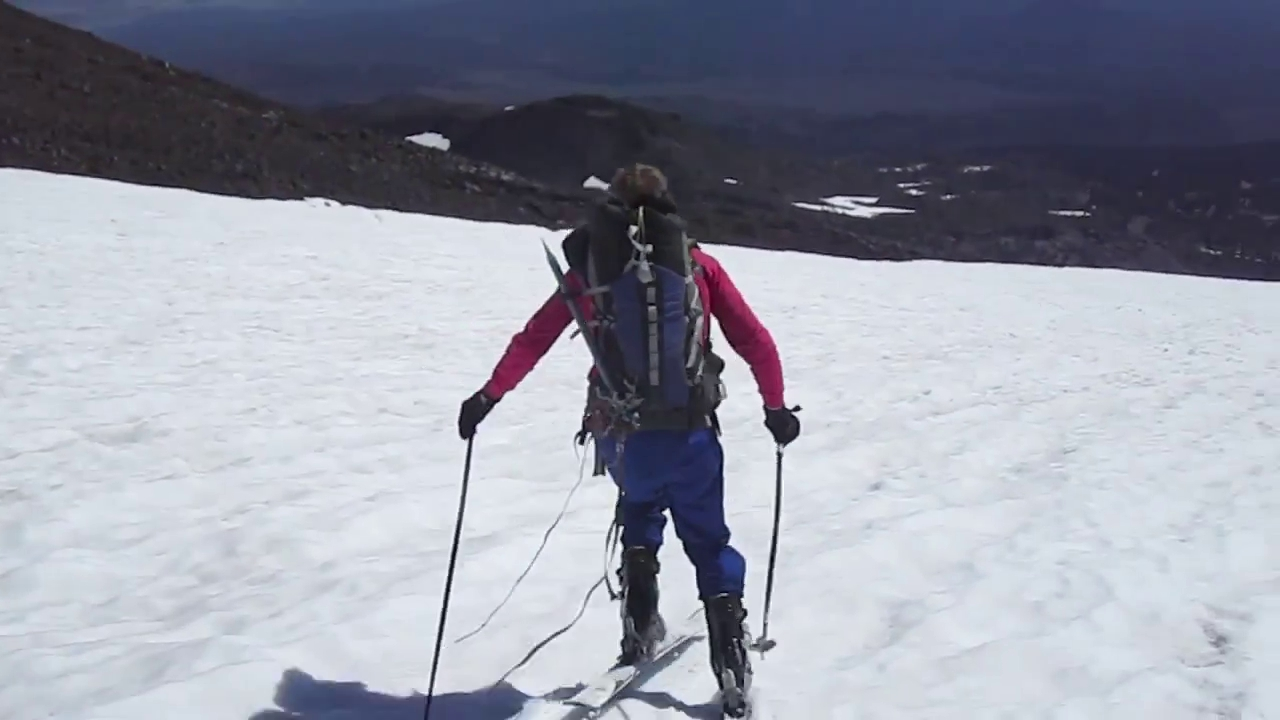person: (459, 164, 802, 717)
